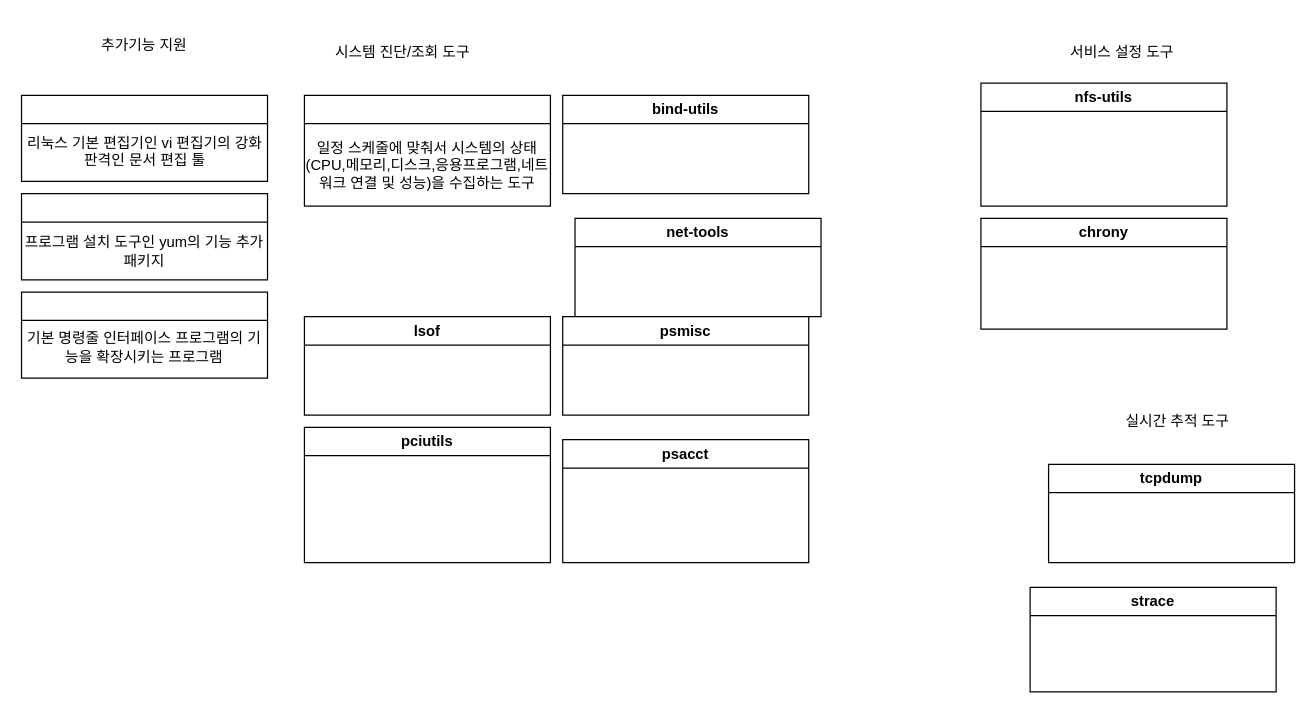
This 1316x713 diagram has some shape labels left out. Each missing label, with the box of its shape:
bash-completion: (20, 291, 268, 378)
sysstat: (303, 94, 550, 206)
vim: (20, 94, 268, 181)
yum-utils: (20, 192, 268, 280)
